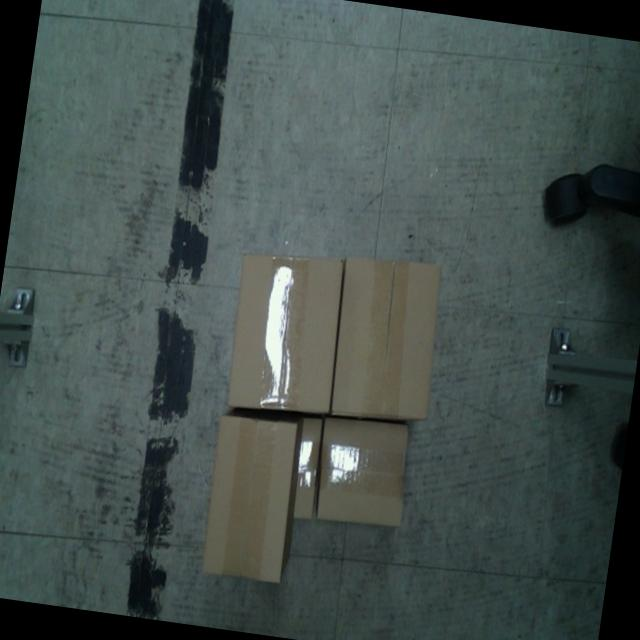box: (220, 242, 349, 420), (324, 249, 447, 427), (198, 408, 304, 586), (309, 412, 413, 533)
